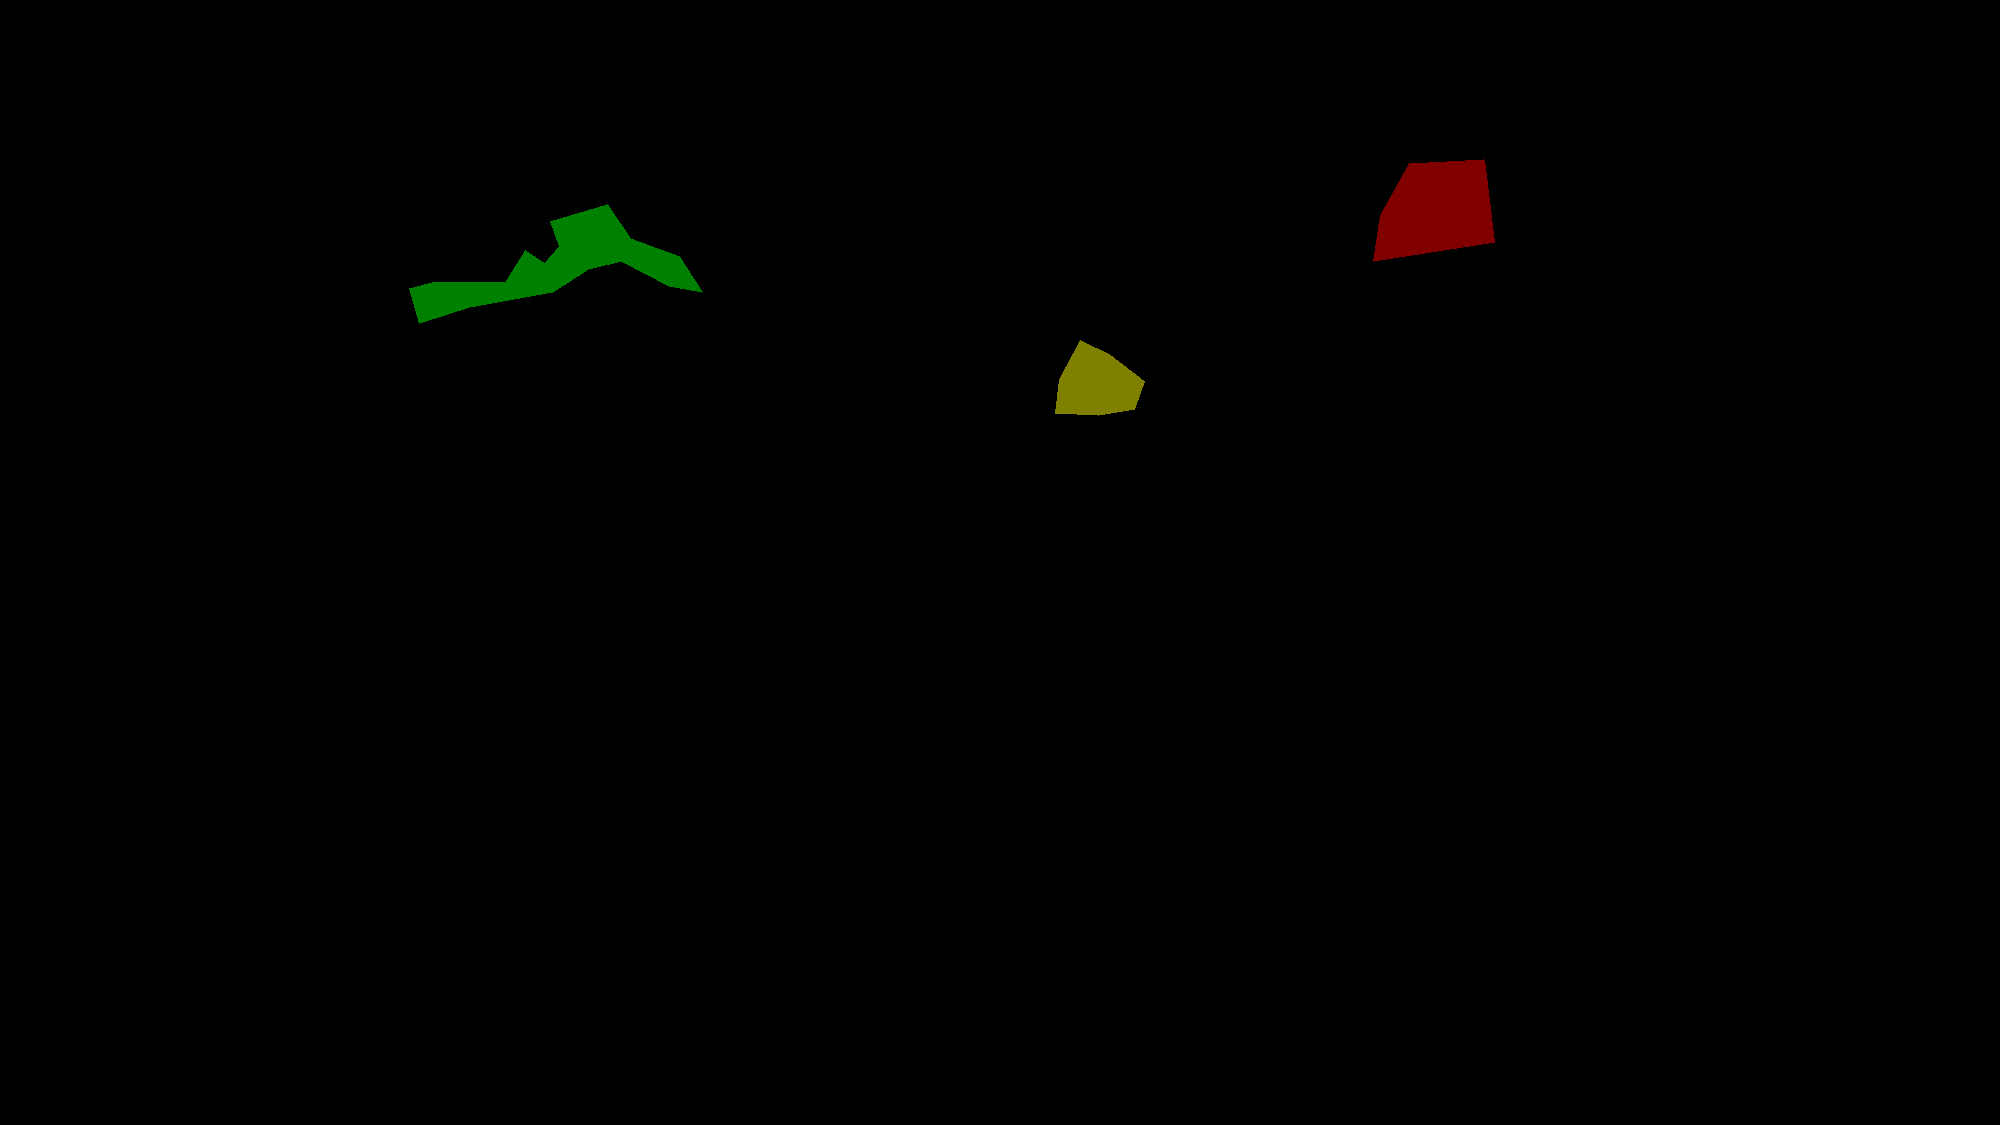fire: (409, 205, 702, 323), (1374, 159, 1495, 261), (1055, 341, 1144, 415)
